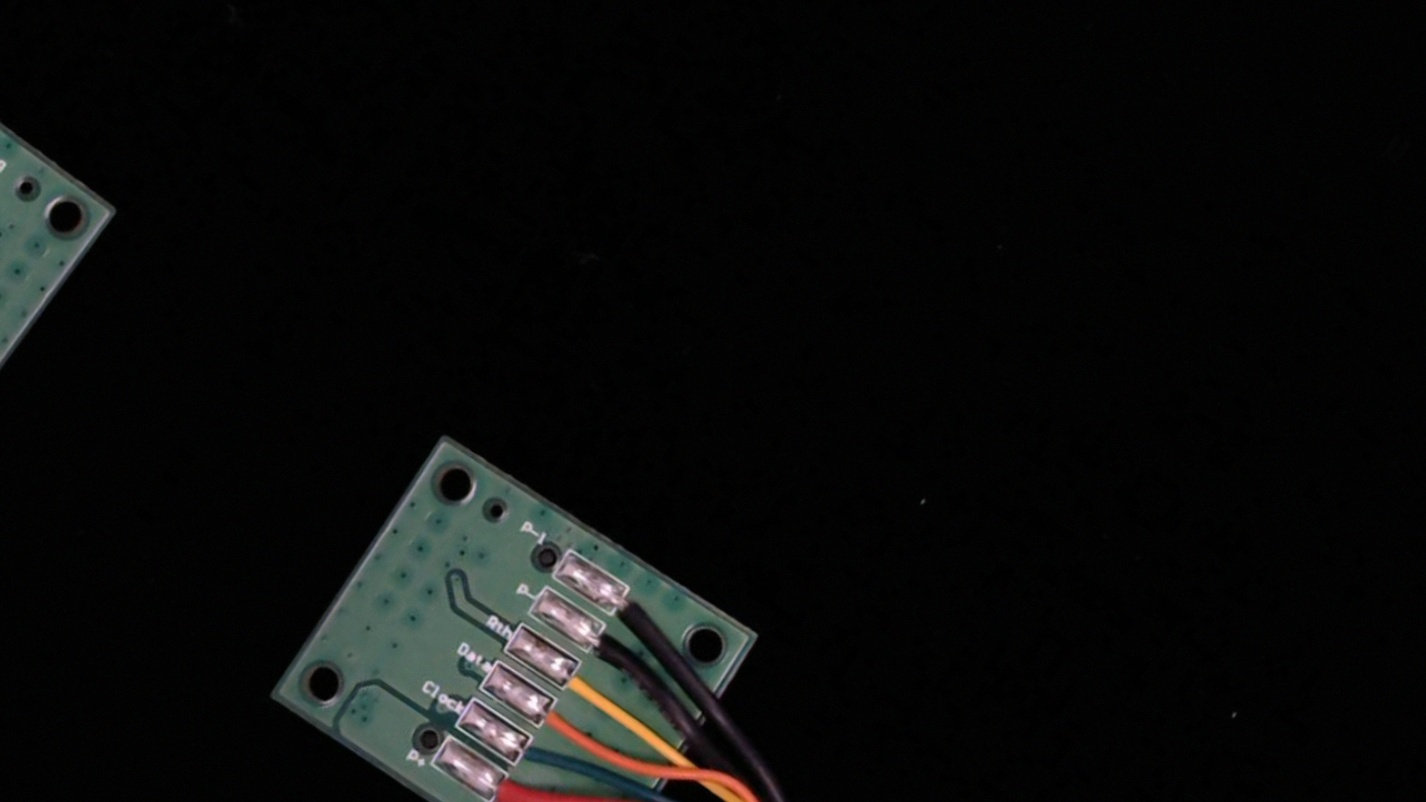Black: (569, 613, 652, 685)
Black1: (594, 576, 678, 648)
Green: (497, 726, 577, 795)
Orange: (523, 689, 598, 755)
Red: (471, 764, 552, 802)
Yellow: (545, 652, 630, 725)
